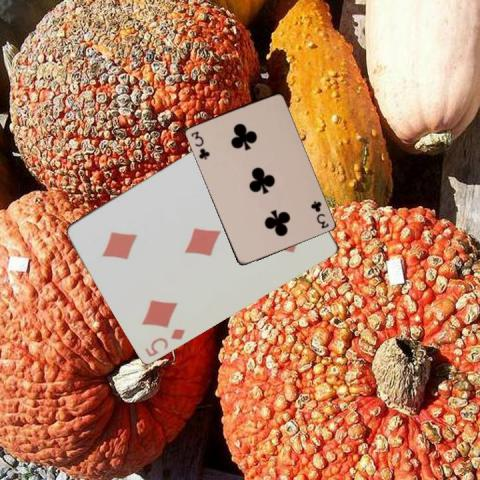3c: (188, 128, 211, 161), (308, 198, 330, 230)
5d: (142, 325, 187, 358)
